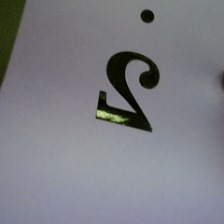violet2: (93, 4, 166, 141)
